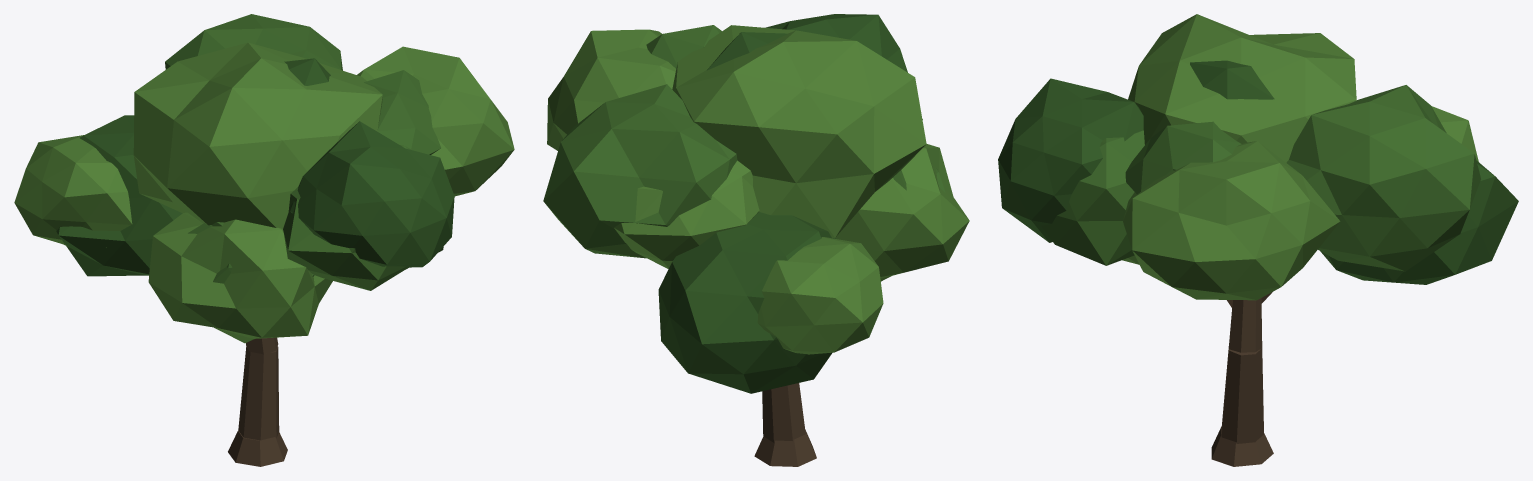
The model's file is oak1.glb.
The picture shows the model from 3 angles, left to right: view 1: azimuth 30°, elevation 25°; view 2: azimuth 150°, elevation 25°; view 3: azimuth 270°, elevation 25°; orthographic projection. The views are drawn at different scales.
Visible parts, largest first — view 1: Tree; view 2: Tree; view 3: Tree.
Part boxes in pixels (left/top/right/bottom): Tree: left=14, top=14, right=514, bottom=466; Tree: left=543, top=14, right=969, bottom=466; Tree: left=998, top=14, right=1518, bottom=466.
Bounding box in the file's own units: 6.48 × 6.33 × 7.15.
